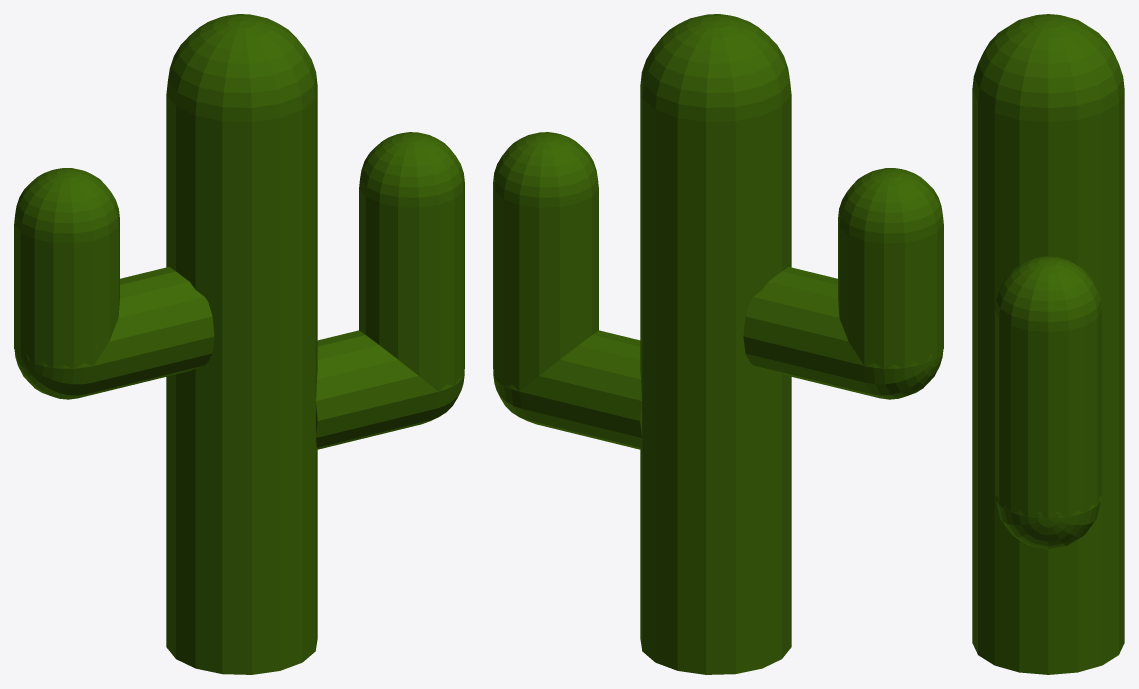
Rendered from Cactus1.glb.
3 views of the same model, side by side, from view 1: azimuth 30°, elevation 25°; view 2: azimuth 150°, elevation 25°; view 3: azimuth 270°, elevation 25° (orthographic).
Parts seen in each view (by area): view 1: Cylinder; view 2: Cylinder; view 3: Cylinder.
Boxes of the visible parts, x1=… form: Cylinder: x1=14, y1=14, x2=464, y2=674; Cylinder: x1=493, y1=14, x2=943, y2=674; Cylinder: x1=972, y1=14, x2=1124, y2=674.
Bounding box in the file's own units: 6.62 × 9 × 2.
